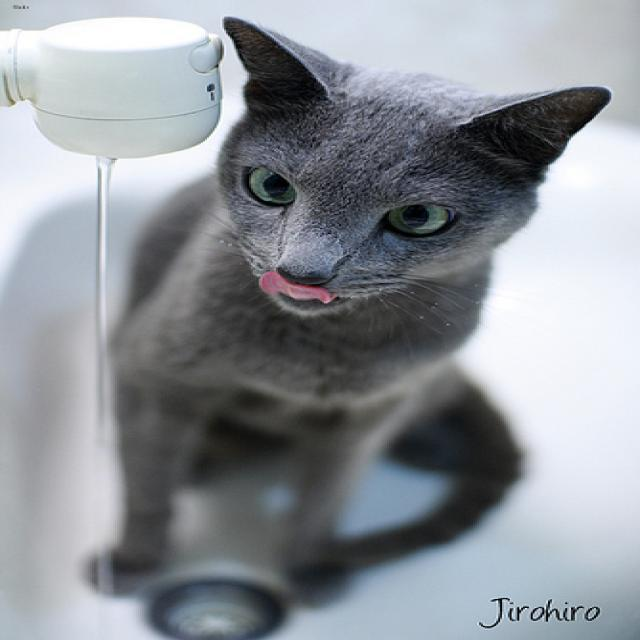Russian_Blue: (205, 13, 612, 323)
